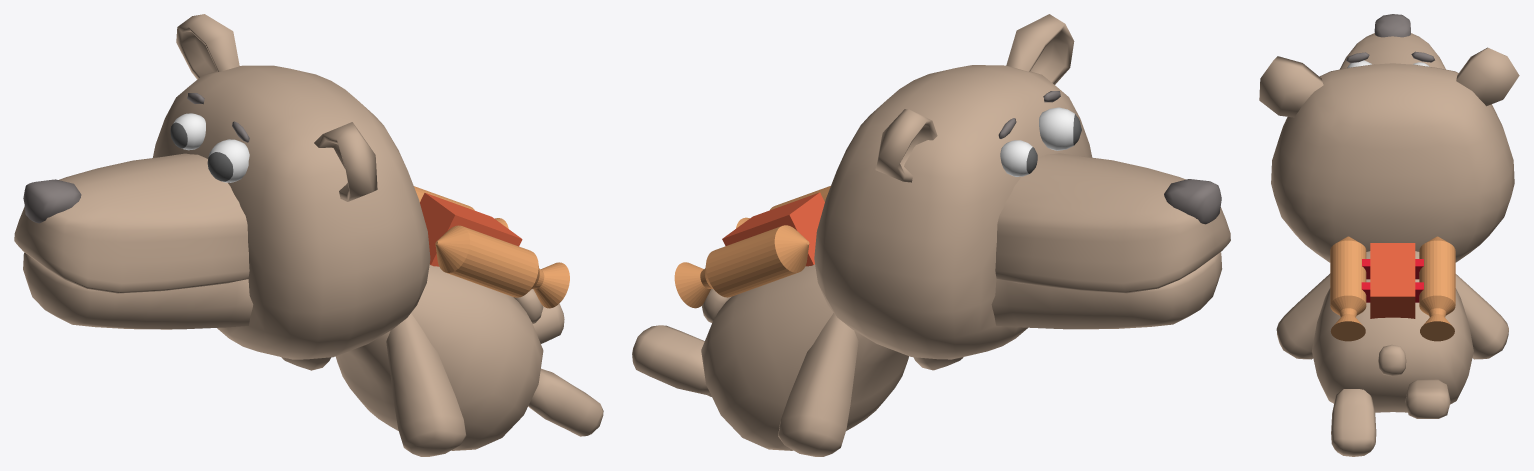
Rendered from BearWithRockets.fbx.
3 renders of one model, left to right at view 1: azimuth 30°, elevation 25°; view 2: azimuth 150°, elevation 25°; view 3: azimuth 270°, elevation 25°, orthographic. The views are drawn at different scales.
Parts seen in each view (by area): view 1: Box003, Box002, Body, Box001, Box010, Engine_Left, Box008, Box005, Box004, Body.001, Box006, Sphere003 (+2 smaller); view 2: Box003, Box002, Body, Box001, Box012, Engine_Right, Box009, Box004, Body.001, Box005, Box006, Sphere003 (+1 smaller); view 3: Box003, Body, Body.001, Engine_Right, Engine_Left, Box008, Box004, Box010, Box012, Box005, Box002, Box009 (+2 smaller).
Boxes of the visible parts, x1,y1,x2,y2 form: Box003: (153,65,430,359); Box002: (14,153,249,293); Body: (335,264,543,450); Box001: (23,252,253,329); Box010: (386,313,466,456); Engine_Left: (435,225,569,308); Box008: (528,368,603,436); Box005: (176,14,239,79); Box004: (314,122,377,201); Body.001: (420,193,522,266); Box006: (23,179,81,223); Sphere003: (207,139,249,182); Box003: (814,65,1092,359); Box002: (995,153,1230,293); Body: (701,264,908,450); Box001: (991,252,1222,329); Box012: (778,313,858,456); Engine_Right: (674,225,809,308); Box009: (632,325,709,394); Box004: (1006,14,1074,84); Body.001: (722,192,824,266); Box005: (875,109,937,182); Box006: (1164,179,1221,224); Sphere003: (1039,107,1081,150); Box003: (1271,63,1514,262); Body: (1312,251,1473,412); Body.001: (1370,243,1415,318); Engine_Right: (1419,236,1455,341); Engine_Left: (1330,236,1366,341); Box008: (1331,389,1376,456); Box004: (1259,56,1323,117); Box010: (1276,273,1330,359); Box012: (1455,274,1508,359); Box005: (1456,47,1519,106); Box002: (1339,33,1445,69); Box009: (1405,379,1450,418).
Bounding box in the file's own units: 126 × 91.25 × 70.09.
